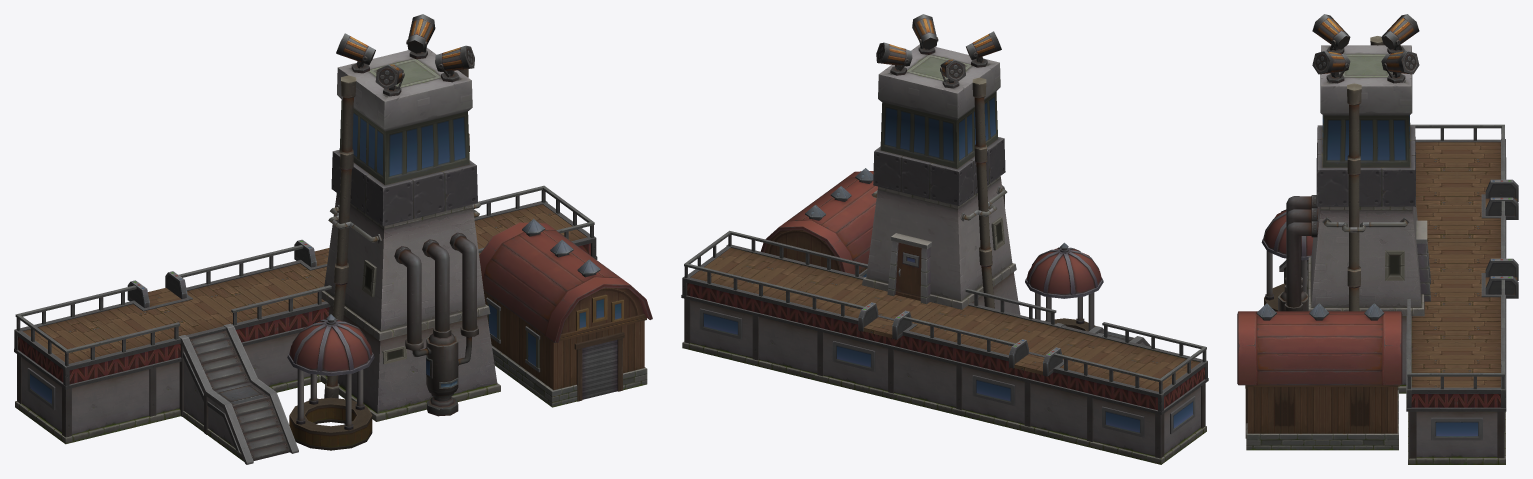
File: scene_luoliante_fjp_01.FBX
The picture shows the model from 3 angles, left to right: view 1: azimuth 30°, elevation 25°; view 2: azimuth 150°, elevation 25°; view 3: azimuth 270°, elevation 25°; orthographic projection. The views are drawn at different scales.
Visible parts, largest first — view 1: scene_luoliante_fjp_01; view 2: scene_luoliante_fjp_01; view 3: scene_luoliante_fjp_01.
Part boxes in pixels (x1,y1,x2,y2): scene_luoliante_fjp_01: (14,14,652,464); scene_luoliante_fjp_01: (681,14,1208,464); scene_luoliante_fjp_01: (1237,14,1518,464).
Bounding box in the file's own units: 1850 × 1153 × 876.
